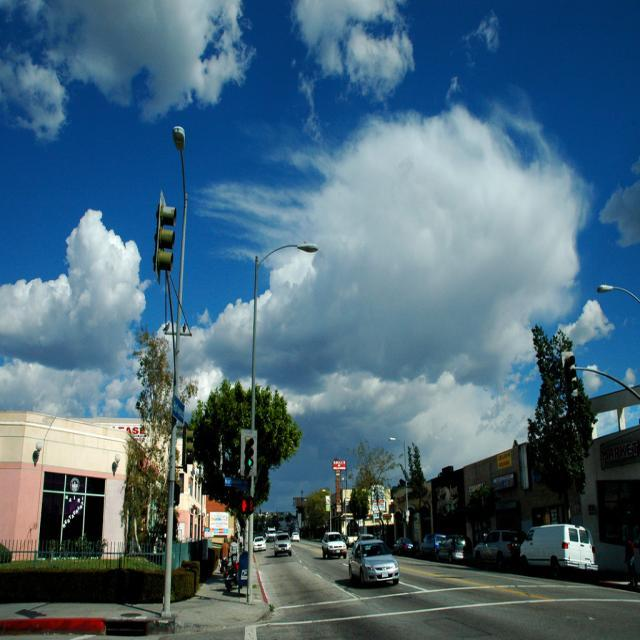off traffic light: (157, 200, 177, 270)
traffic light: (243, 436, 256, 475)
